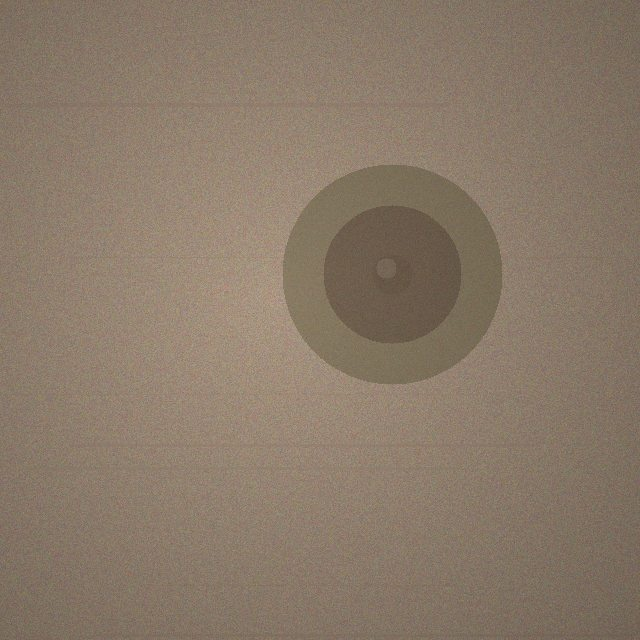good: (282, 164, 502, 384)
